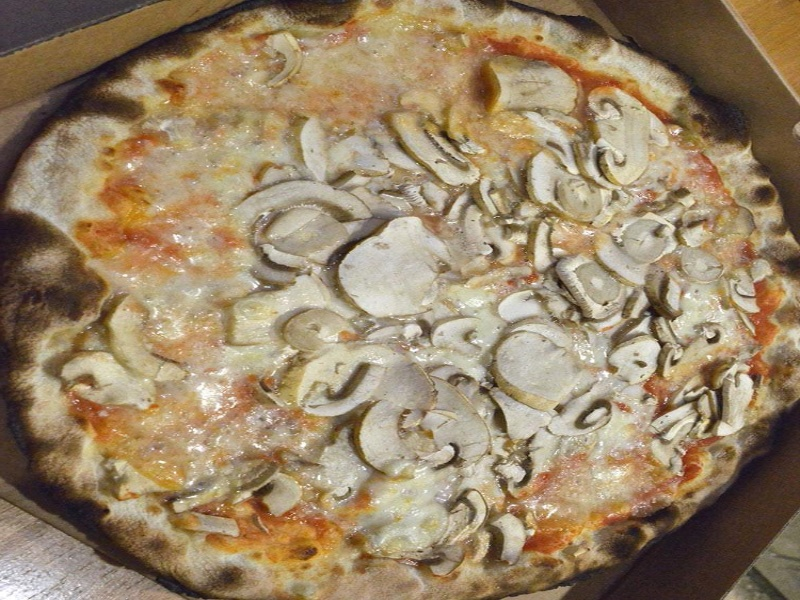champignon: (584, 86, 661, 187)
